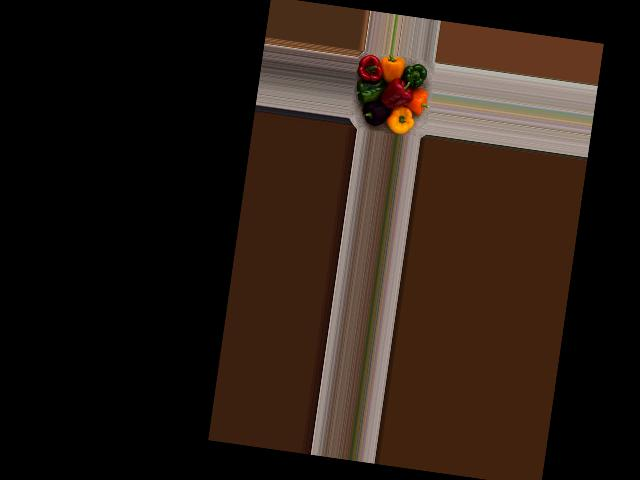bell_pepper: (354, 92, 392, 126)
